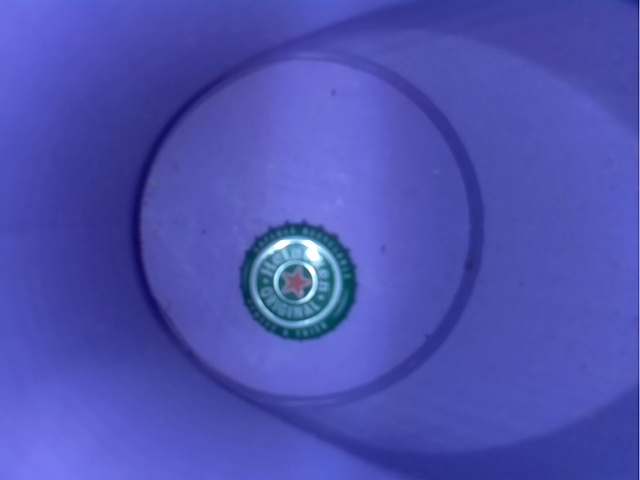capsule: (228, 219, 378, 348)
